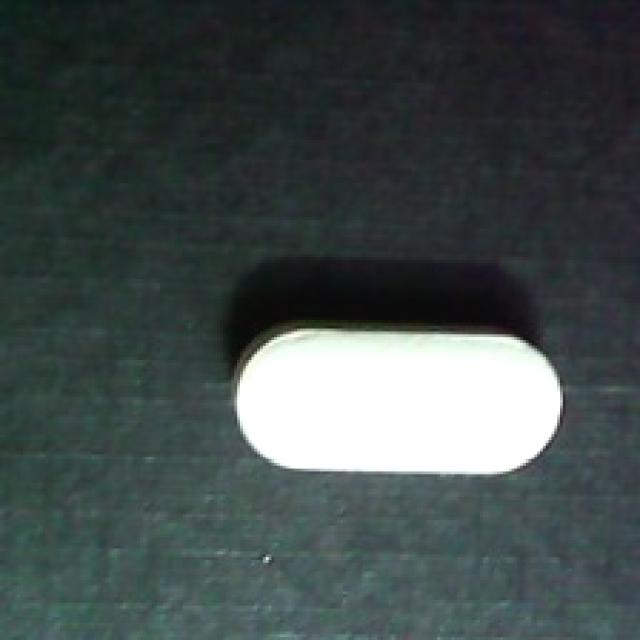no-defect: (229, 311, 566, 480)
